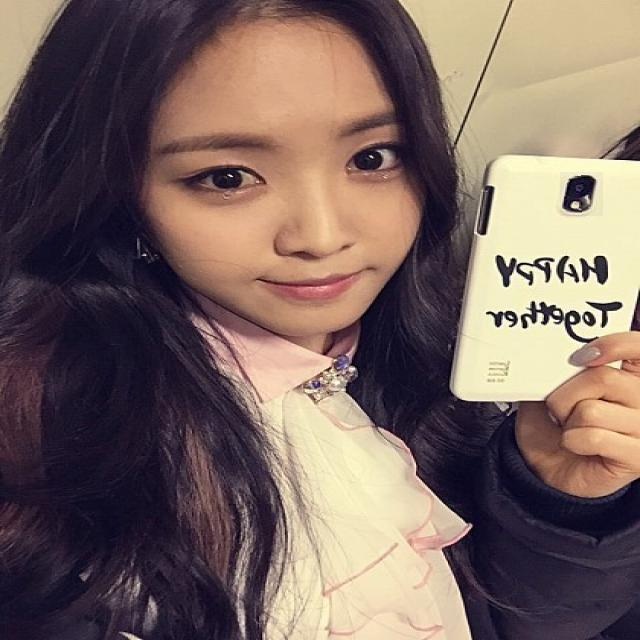Mobile: (449, 152, 638, 408)
